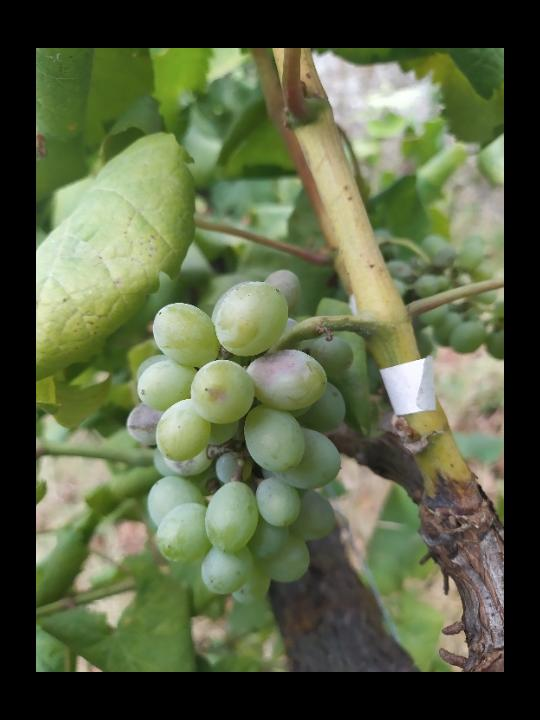grape: (122, 272, 360, 610)
